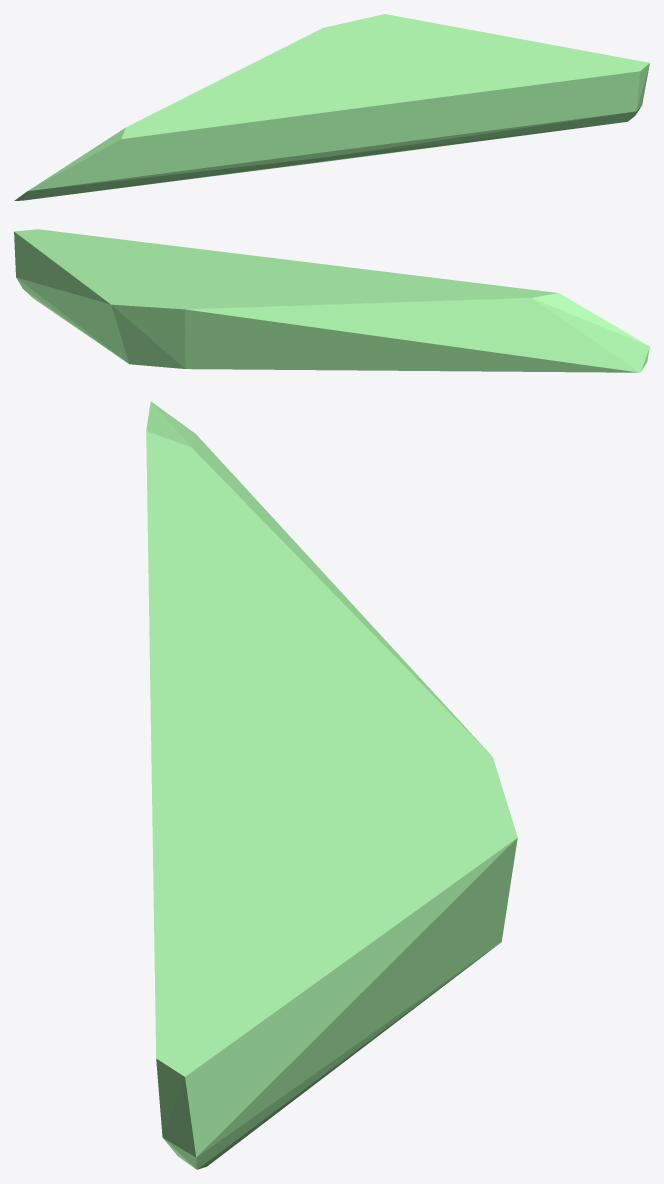
File: UMIRobot_UMIRobot_link_5_convex_coll_8.dae
3 renders of one model, top to bottom at view 1: azimuth 30°, elevation 25°; view 2: azimuth 150°, elevation 25°; view 3: azimuth 270°, elevation 25°, orthographic. The views are drawn at different scales.
Visible parts, largest first — view 1: node; view 2: node; view 3: node.
Boxes of the visible parts, x1,y1,x2,y2 form: node: [14, 14, 649, 200]; node: [14, 229, 649, 372]; node: [146, 401, 517, 1169].
Size of the model in its own units: 0.0602 by 0.0108 by 0.0154.
